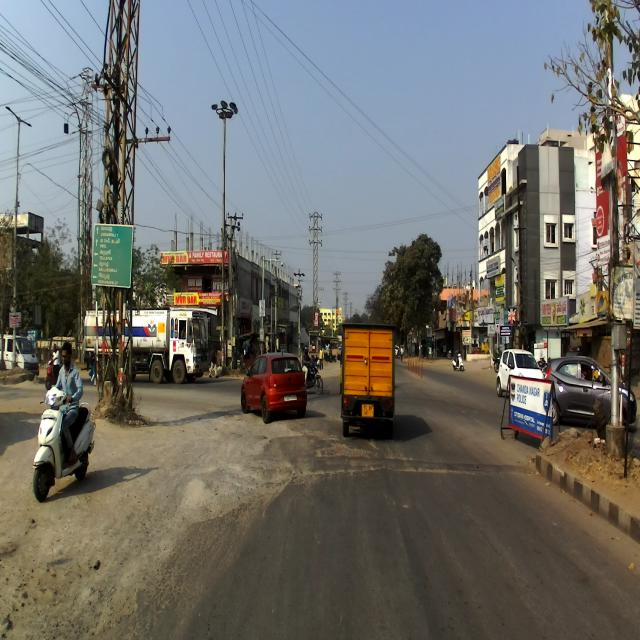auto ahead at: (337, 323, 396, 436)
barrier ahead at: (498, 372, 555, 447)
car ahead at: (240, 348, 312, 426)
motorcycle ahead at: (28, 391, 96, 501)
